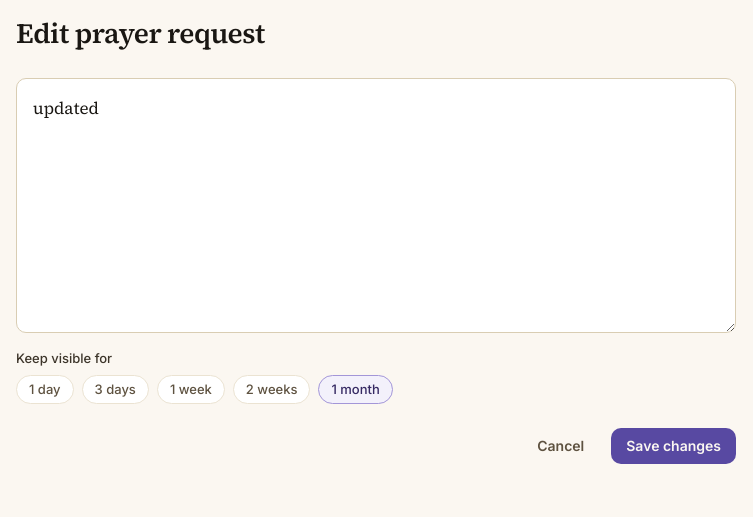
Test: EditPostPage › Save with EDIT_DEADLINE_PASSED response disables Save and keeps the buffer
The width and height of the screenshot is (753, 517).
Expected: the text box named "body" is shown, [16,78,736,333]
Click the button "Save changes": (674,446) [611,428,736,464]
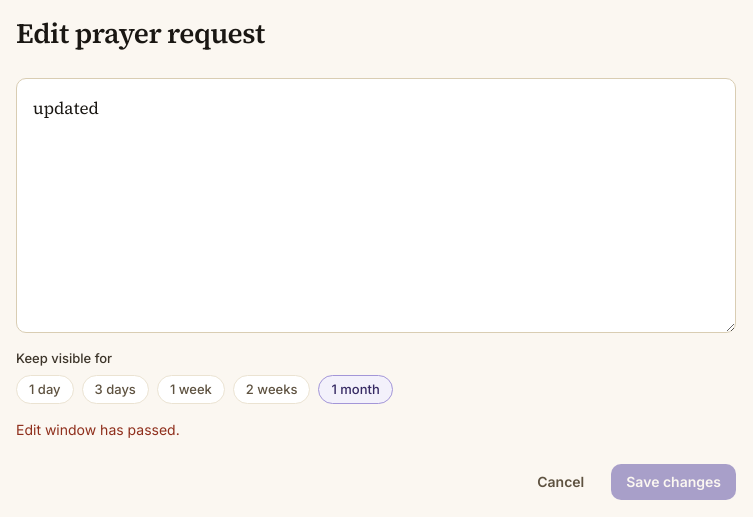
Expected: the text "Edit window has passed." is shown, [16,421,180,438]
Expected: the button "Save changes" is disabled, [611,464,736,500]
